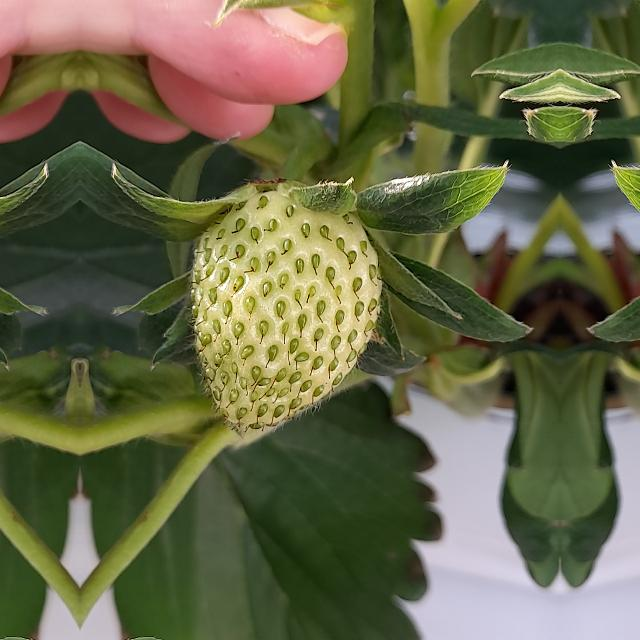Health_25: (186, 189, 384, 433)
